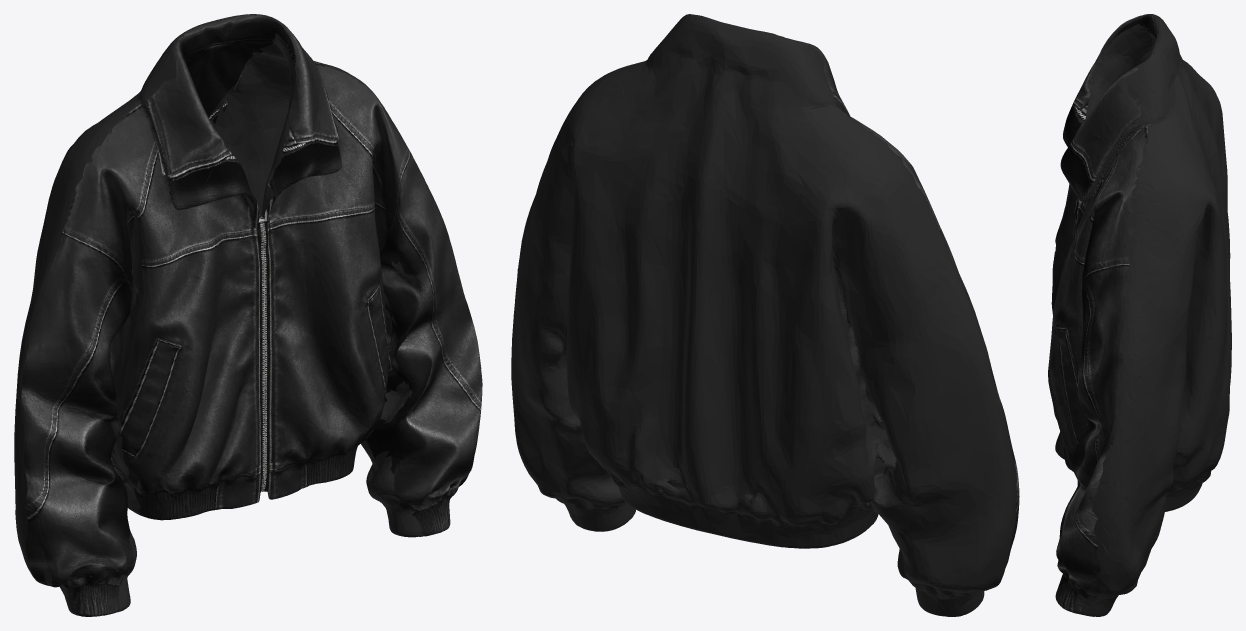
File: blackout-bomber-qora.glb
3 views of the same model, side by side, from view 1: azimuth 30°, elevation 25°; view 2: azimuth 150°, elevation 25°; view 3: azimuth 270°, elevation 25° (orthographic). The views are drawn at different scales.
Parts seen in each view (by area): view 1: world; view 2: world; view 3: world.
Part boxes in pixels (x1,y1,x2,y2): world: [14, 14, 482, 616]; world: [511, 14, 1019, 616]; world: [1048, 14, 1231, 616].
Size of the model in its own units: 1.79 by 1.96 by 0.6481.
1 material, 1 textured.
